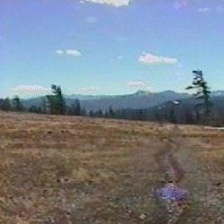neutral: (6, 68, 221, 224)
